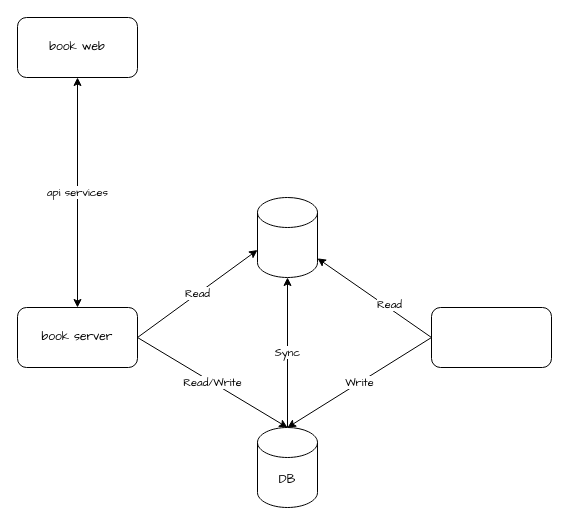
Image size: 569x525. Some labels were removed from this diagram. The centre of each missing label's shape, as x and y in pixels:
book crawler server: (491,337)
redis Cache: (287,237)
